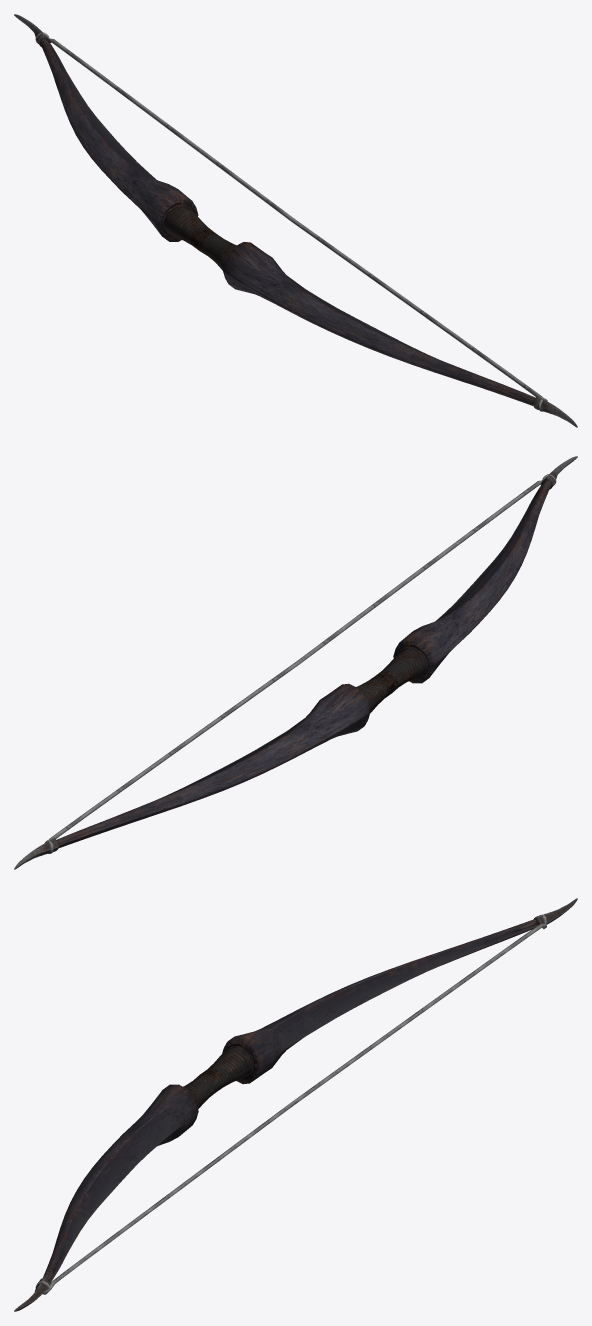
The model's file is blackbow.fbx.
The picture shows the model from 3 angles, top to bottom: view 1: azimuth 30°, elevation 25°; view 2: azimuth 150°, elevation 25°; view 3: azimuth 330°, elevation 25°; orthographic projection.
Visible parts, largest first — view 1: WP_A_1418; view 2: WP_A_1418; view 3: WP_A_1418.
Boxes of the visible parts, left/top/right/bottom form: WP_A_1418: left=14, top=14, right=577, bottom=427; WP_A_1418: left=14, top=456, right=577, bottom=869; WP_A_1418: left=14, top=898, right=577, bottom=1311.
Bounding box in the file's own units: 21.68 × 8.79 × 191.
Materials: 1 (1 with a texture image).
